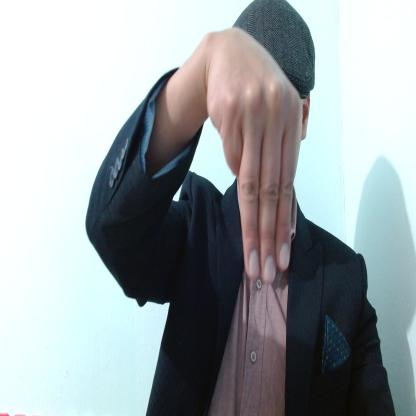M: (206, 28, 302, 287)
